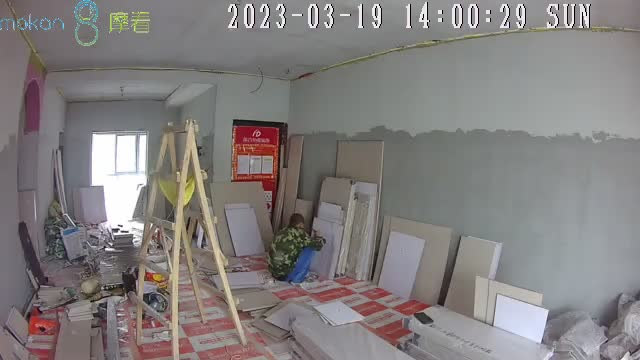people: (268, 214, 326, 286)
window: (93, 133, 149, 214)
